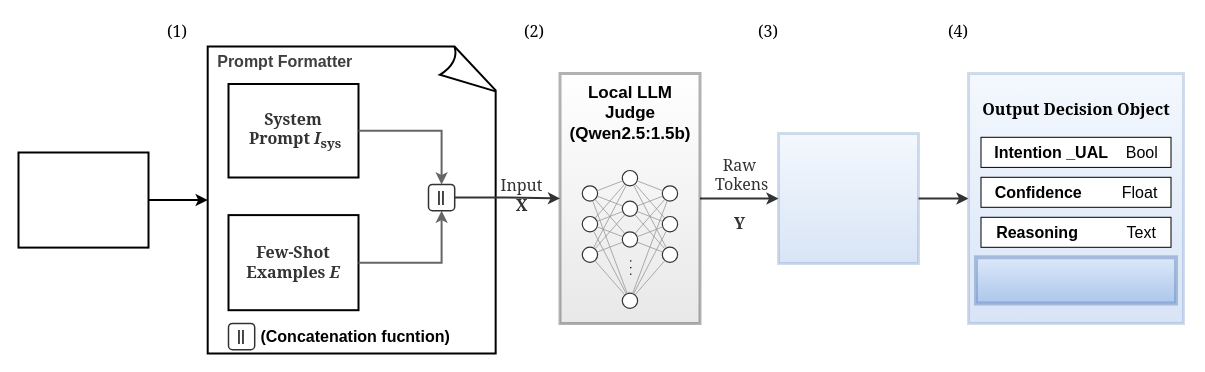
Some shapes in this 1205 by 372 pixel diagram are drawn without their labels. Each missing label, with the box of its shape:
Candidate Query (q): (17, 151, 149, 248)
Deterministic Parser f parse ( Y ): (776, 132, 920, 264)
Suggested_action BLOCK or ALLOW: (974, 255, 1178, 305)
